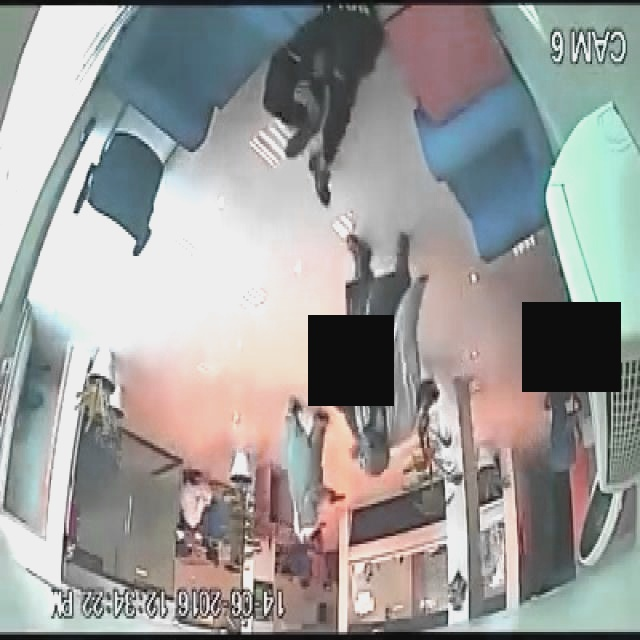gun: (415, 426, 430, 458), (329, 487, 347, 509)
